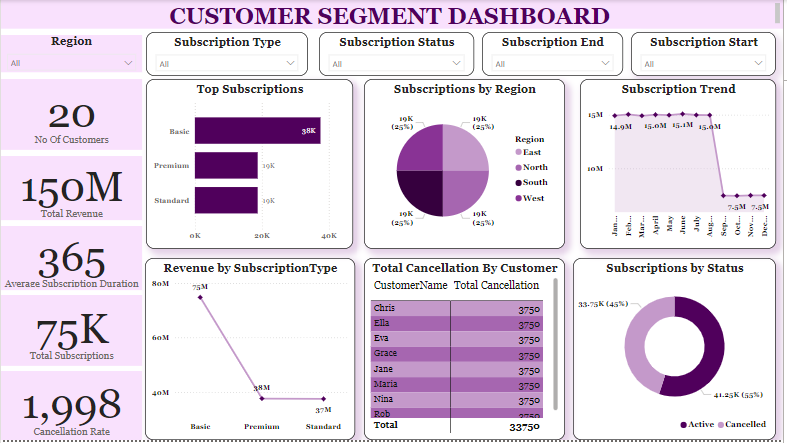

Layout of this report page (visuals, bound fields, positions):
{"tool":"powerbi","page":{"name":"Page 2","canvas":[1280,720],"ordinal":1},"visuals":[{"type":"textbox","box":[0,0,1280,46.5],"z":0},{"type":"slicer","title":"Region","fields":{"Values":["CustomerData.Region"]},"box":[0,57.2,231.3,61.1],"z":1000},{"type":"slicer","title":"Subscription Type","fields":{"Values":["CustomerData.SubscriptionType"]},"box":[237.3,52.4,265.2,72],"z":2000},{"type":"card","fields":{"Values":["CustomerData.No Of Customers"]},"box":[0,128.9,231.3,115.6],"z":3000},{"type":"card","fields":{"Values":["CustomerData.Total Revenue"]},"box":[0,255.2,231.3,105],"z":4000},{"type":"card","fields":{"Values":["CustomerData.Average Subscription Duration"]},"box":[0,369.5,231.3,105],"z":5000},{"type":"card","fields":{"Values":["CustomerData.Total Subscription Type"]},"box":[0,482.5,231.3,115.6],"z":6000},{"type":"lineChart","title":"Revenue by SubscriptionType","fields":{"Y":["CustomerData.Revenue"],"Category":["CustomerData.SubscriptionType"]},"box":[235.7,422.3,343.7,297.9],"z":7000},{"type":"pieChart","title":"Subscriptions by Region","fields":{"Y":["CustomerData.Total Subscriptions"],"Category":["CustomerData.Region"]},"box":[594.2,129.3,329,278.3],"z":8000},{"type":"slicer","title":"Subscription Status","fields":{"Values":["CustomerData.Subscription Status"]},"box":[520.5,52.4,253.7,72],"z":9000},{"type":"slicer","title":"Subscription End","fields":{"Values":["CustomerData.SubscriptionEnd.Variation.Date Hierarchy.Year"]},"box":[787.3,52.4,230.8,72],"z":10000},{"type":"slicer","title":"Subscription Start","fields":{"Values":["CustomerData.SubscriptionStart.Variation.Date Hierarchy.Year"]},"box":[1031.2,52.4,237.3,72],"z":11000},{"type":"card","fields":{"Values":["CustomerData.Cancellation Rate"]},"box":[0,607.4,231.3,113],"z":12000},{"type":"clusteredBarChart","title":"Top Subscriptions","fields":{"Category":["CustomerData.SubscriptionType"],"Y":["CustomerData.Total Subscriptions"]},"box":[237.3,129.3,338.8,278.3],"z":13000},{"type":"donutChart","title":"Subscriptions by Status","fields":{"Category":["CustomerData.Subscription Status"],"Y":["CustomerData.Total Subscriptions"]},"box":[936.3,422.3,332.3,297.9],"z":14000},{"type":"lineChart","title":"Subscription Trend","fields":{"Category":["CustomerData.SubscriptionStart.Variation.Date Hierarchy.Month"],"Y":["CustomerData.Revenue"]},"box":[947.8,129.9,321.3,278],"z":15000},{"type":"pivotTable","title":"Total Cancellation By Customer","fields":{"Rows":["CustomerData.CustomerName"],"Values":["CustomerData.Total Cancellation"]},"box":[594.2,422.3,329,297.9],"z":16000}]}

Visuals, with their boxes in screenshot pixels (x1, y1, x2, y2), scaled from the page's 1280x720 canvas onto the 787x443 screenshot:
textbox: region(0, 0, 786, 29)
"Region" slicer: region(0, 35, 142, 73)
"Subscription Type" slicer: region(146, 32, 309, 77)
card - CustomerData.No Of Customers: region(0, 79, 142, 150)
card - CustomerData.Total Revenue: region(0, 157, 142, 222)
card - CustomerData.Average Subscription Duration: region(0, 227, 142, 292)
card - CustomerData.Total Subscription Type: region(0, 297, 142, 368)
"Revenue by SubscriptionType" lineChart: region(145, 260, 356, 442)
"Subscriptions by Region" pieChart: region(365, 80, 568, 251)
"Subscription Status" slicer: region(320, 32, 476, 77)
"Subscription End" slicer: region(484, 32, 626, 77)
"Subscription Start" slicer: region(634, 32, 780, 77)
card - CustomerData.Cancellation Rate: region(0, 374, 142, 442)
"Top Subscriptions" clusteredBarChart: region(146, 80, 354, 251)
"Subscriptions by Status" donutChart: region(576, 260, 780, 442)
"Subscription Trend" lineChart: region(583, 80, 780, 251)
"Total Cancellation By Customer" pivotTable: region(365, 260, 568, 442)
